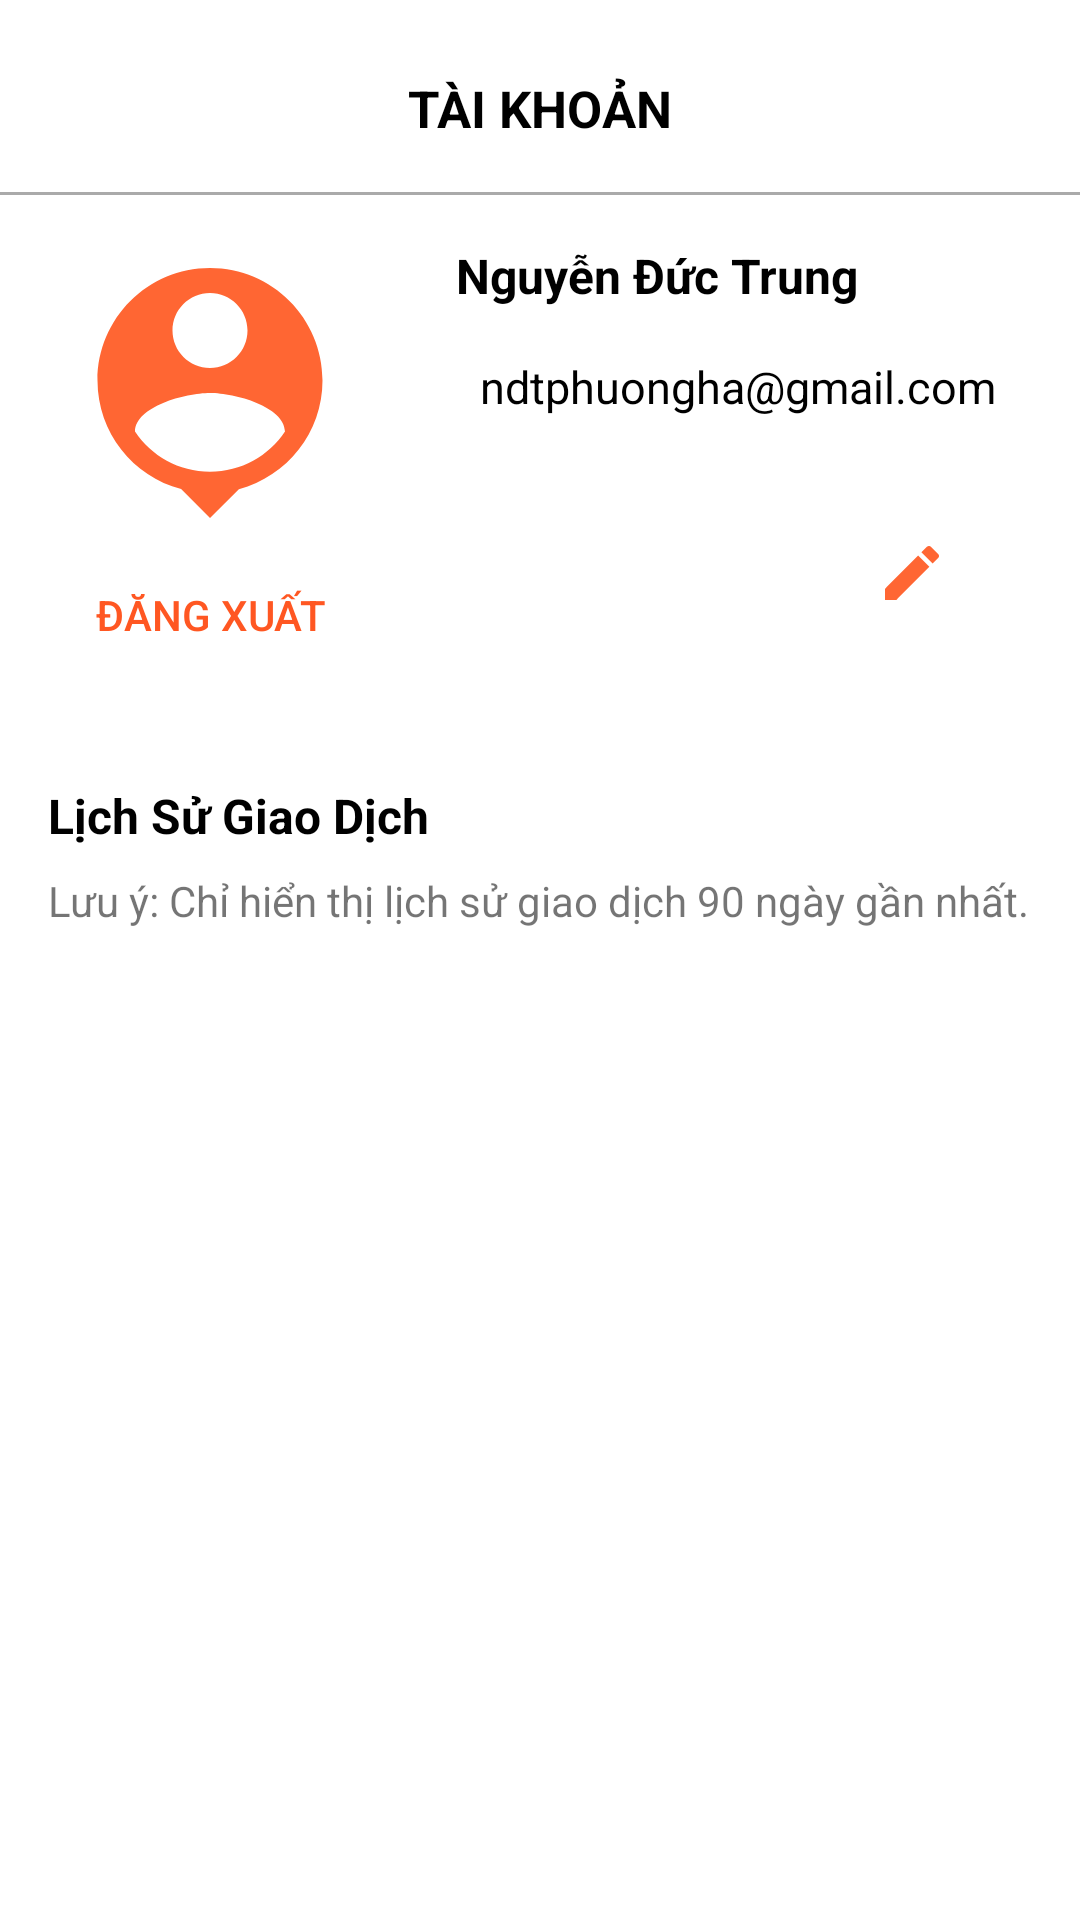

Icons on this 1080px x 1920px Android screen, each with the point to tap as point (x, y):
edit: point (912, 573)
person pin: point (210, 393)
